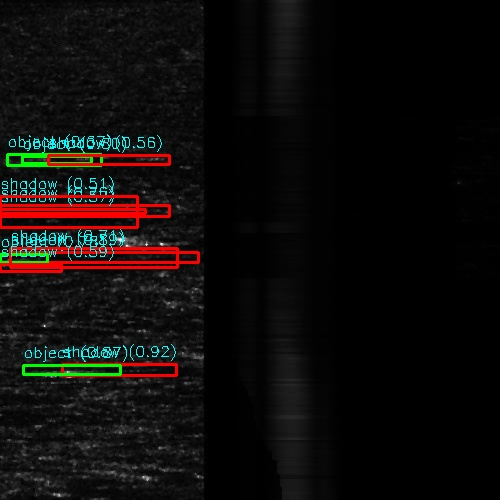rock: (4, 365, 97, 376), (0, 250, 22, 261)
shadow: (0, 250, 195, 261), (51, 365, 147, 376)
